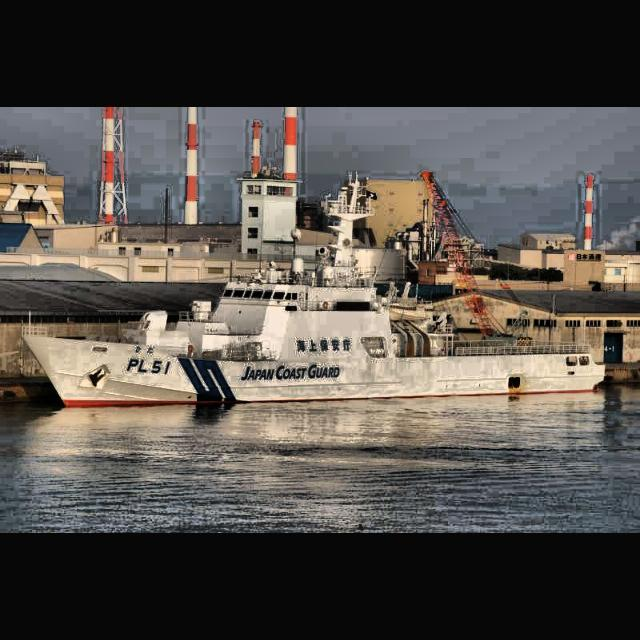patrol_vessel: (21, 172, 609, 410)
